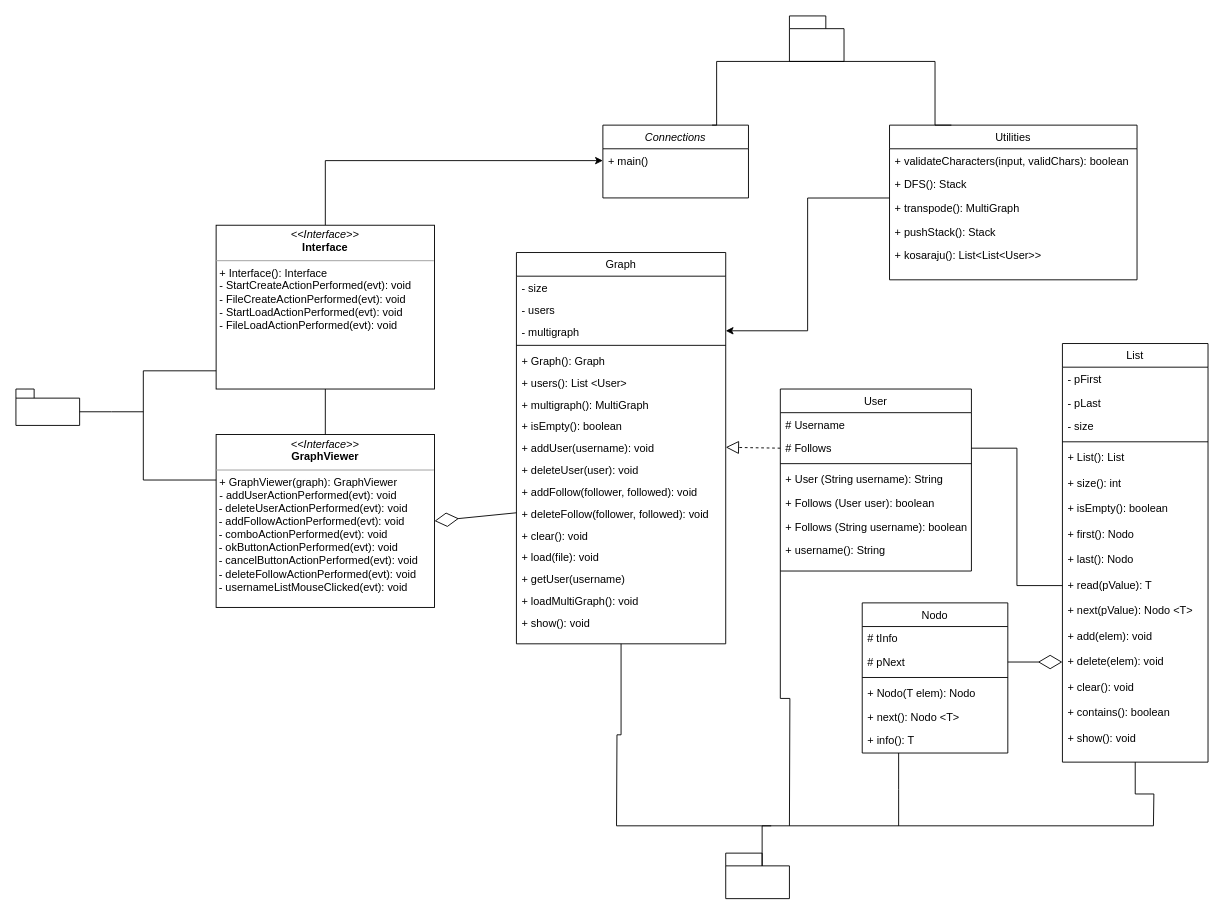
Image size: 1224x915. Some labels were removed from this diagram. Each missing label, with the centre of its shape:
APP: point (816, 38)
EDD: point (757, 875)
UI: point (47, 406)
